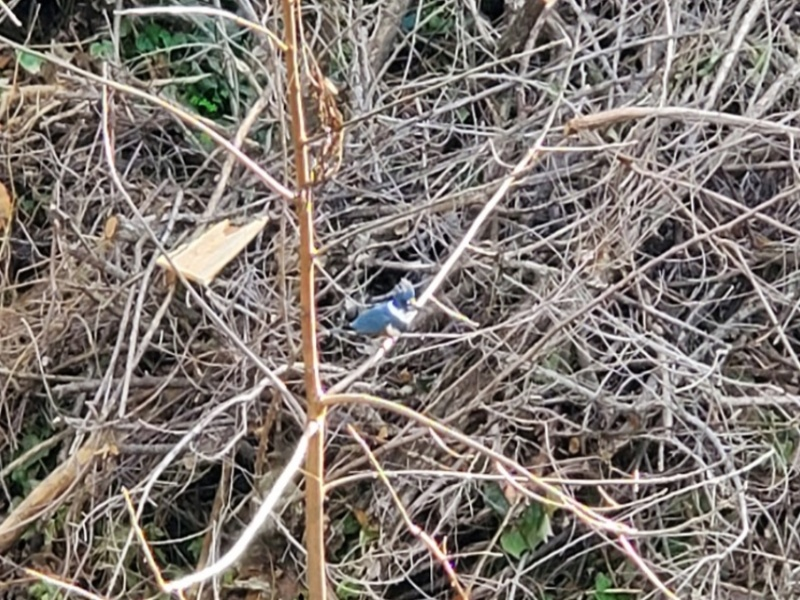kingfisher: (351, 277, 431, 342)
